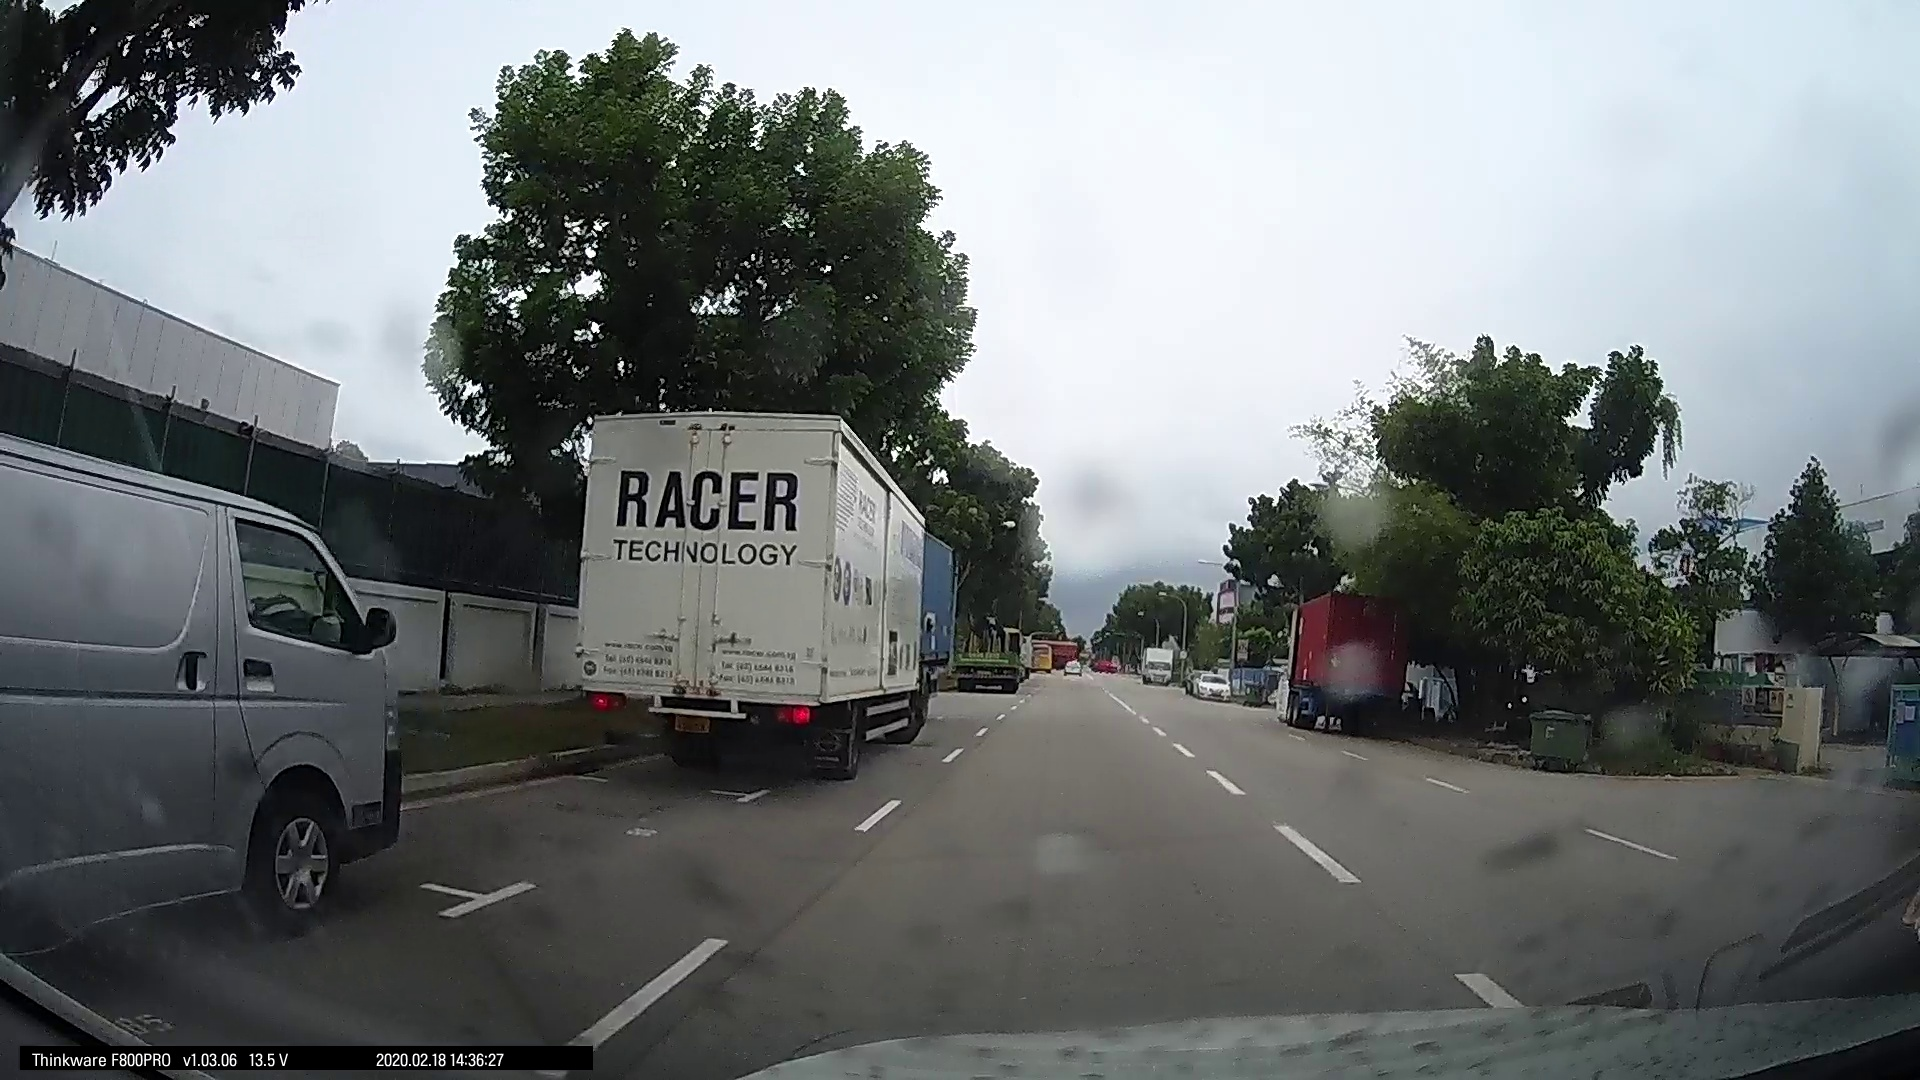Heavy Vehicle: (567, 405, 935, 781), (1276, 589, 1418, 735)
Light Vehicle: (3, 448, 411, 971)
